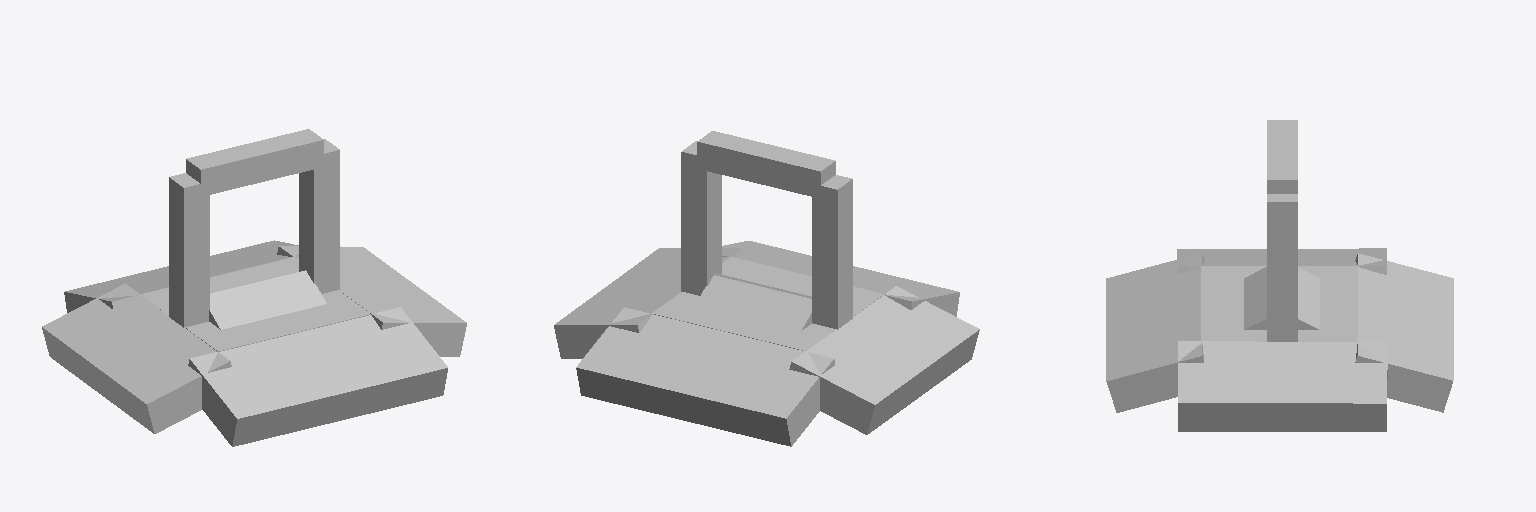
File: PortalCollider.obj
The picture shows the model from 3 angles: view 1: azimuth 30°, elevation 25°; view 2: azimuth 150°, elevation 25°; view 3: azimuth 270°, elevation 25°; orthographic projection.
Size of the model in its own units: 63.76 by 40.09 by 59.66.